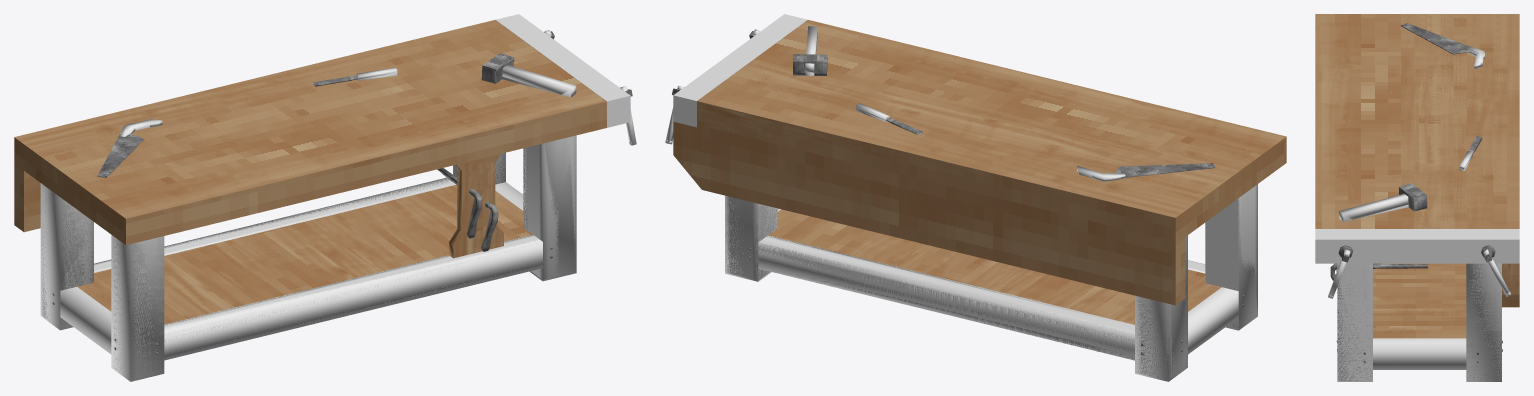
Rendered from CWB.fbx.
The picture shows the model from 3 angles, left to right: view 1: azimuth 30°, elevation 25°; view 2: azimuth 150°, elevation 25°; view 3: azimuth 270°, elevation 25°; orthographic projection. The views are drawn at different scales.
Visible parts, largest first — view 1: LOD_fw, LOD_cw, Table_fw.003, Table_fw.001, Table_cw_leg_front_right, Table_cw_side_front, Table_cw_leg_front_left, Table_cw_side_back, Table_cw_leg_back_left, Table_fw_chiselholder, LOD_m, Table_fw_lower_planks.012 (+17 smaller); view 2: LOD_fw, LOD_cw, Table_fw.001, Table_fw.002, Table_cw_side_back, Table_fw.003, Table_fw, Table_cw_leg_back_right, Table_cw_leg_back_left, Table_cw_vise_main, Table_cw_leg_front_left, LOD_m (+7 smaller); view 3: LOD_fw, LOD_cw, Table_fw.002, Table_fw.003, Table_fw.001, Table_cw_vise_main, Table_cw_leg_back_right, Table_fw, Table_cw_leg_front_right, LOD_m, Table_fw_lower_planks.001, Table_cw_hammer (+5 smaller).
Part boxes in pixels (x1=…): LOD_fw: x1=14, y1=20, x2=606, y2=323; LOD_cw: x1=40, y1=14, x2=636, y2=381; Table_fw.003: x1=107, y1=96, x2=603, y2=217; Table_fw.001: x1=16, y1=21, x2=513, y2=156; Table_cw_leg_front_right: x1=523, y1=135, x2=576, y2=279; Table_cw_side_front: x1=164, y1=235, x2=542, y2=359; Table_cw_leg_front_left: x1=111, y1=235, x2=164, y2=380; Table_cw_side_back: x1=94, y1=178, x2=455, y2=272; Table_cw_leg_back_left: x1=40, y1=184, x2=93, y2=327; Table_fw_chiselholder: x1=449, y1=154, x2=503, y2=258; LOD_m: x1=97, y1=31, x2=632, y2=248; Table_fw_lower_planks.012: x1=286, y1=220, x2=378, y2=277; LOD_fw: x1=673, y1=20, x2=1286, y2=319; LOD_cw: x1=665, y1=14, x2=1257, y2=381; Table_fw.001: x1=698, y1=103, x2=1200, y2=238; Table_fw.002: x1=728, y1=61, x2=1230, y2=204; Table_cw_side_back: x1=758, y1=235, x2=1134, y2=360; Table_fw.003: x1=811, y1=23, x2=1283, y2=154; Table_fw: x1=875, y1=85, x2=1256, y2=201; Table_cw_leg_back_right: x1=725, y1=195, x2=777, y2=280; Table_cw_leg_back_left: x1=1135, y1=237, x2=1187, y2=380; Table_cw_vise_main: x1=673, y1=14, x2=799, y2=114; Table_cw_leg_front_left: x1=1205, y1=184, x2=1257, y2=328; LOD_m: x1=674, y1=31, x2=1214, y2=178; LOD_fw: x1=1315, y1=14, x2=1519, y2=338; LOD_cw: x1=1315, y1=46, x2=1519, y2=381; Table_fw.002: x1=1419, y1=14, x2=1467, y2=228; Table_fw.003: x1=1316, y1=15, x2=1359, y2=226; Table_fw.001: x1=1469, y1=14, x2=1518, y2=228; Table_cw_vise_main: x1=1316, y1=229, x2=1519, y2=263; Table_cw_leg_back_right: x1=1466, y1=263, x2=1501, y2=380; Table_fw: x1=1377, y1=14, x2=1415, y2=228; Table_cw_leg_front_right: x1=1337, y1=263, x2=1372, y2=380; LOD_m: x1=1336, y1=23, x2=1491, y2=271; Table_fw_lower_planks.001: x1=1373, y1=306, x2=1466, y2=316; Table_cw_hammer: x1=1339, y1=197, x2=1408, y2=221.
Bounding box in the file's own units: 3.1 × 1.09 × 1.15.
5 materials, 4 textured.
